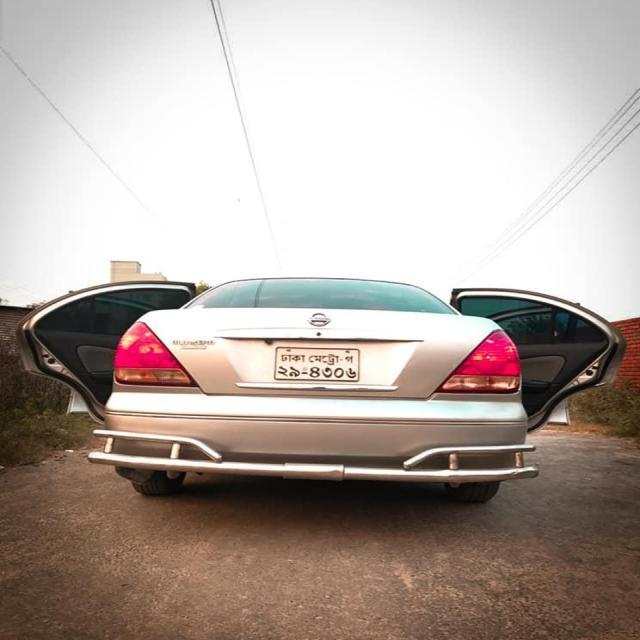numberplate: (273, 346, 360, 382)
